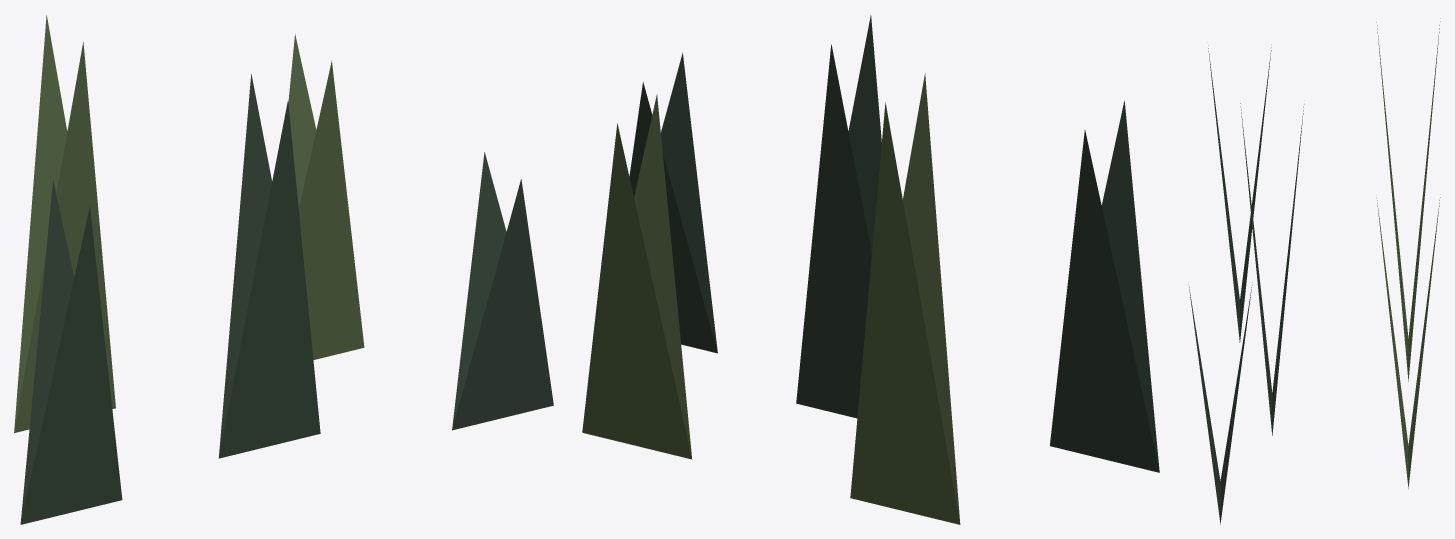
The model's file is grass.glb.
The picture shows the model from 3 angles, left to right: view 1: azimuth 30°, elevation 25°; view 2: azimuth 150°, elevation 25°; view 3: azimuth 270°, elevation 25°; orthographic projection. The views are drawn at different scales.
Parts seen in each view (by area): view 1: solid grass blade.002, solid grass blade, solid grass blade.004, solid grass blade.001, solid grass blade.003; view 2: solid grass blade.001, solid grass blade, solid grass blade.003, solid grass blade.002, solid grass blade.004; view 3: solid grass blade.001, solid grass blade.002, solid grass blade.003, solid grass blade, solid grass blade.004.
Boxes of the visible parts, x1,y1,x2,y2 form: solid grass blade.002: (218,74,320,458); solid grass blade: (20,179,122,524); solid grass blade.004: (452,152,553,430); solid grass blade.001: (14,15,115,432); solid grass blade.003: (288,34,364,359); solid grass blade.001: (850,73,960,524); solid grass blade: (1050,100,1159,472); solid grass blade.003: (582,94,692,459); solid grass blade.002: (796,15,881,418); solid grass blade.004: (629,52,717,353); solid grass blade.001: (1376,18,1440,381); solid grass blade.002: (1240,103,1304,435); solid grass blade.003: (1376,197,1440,488); solid grass blade: (1208,45,1271,342); solid grass blade.004: (1188,282,1252,524).
Size of the model in its own units: 0.82 by 0.59 by 0.39.
